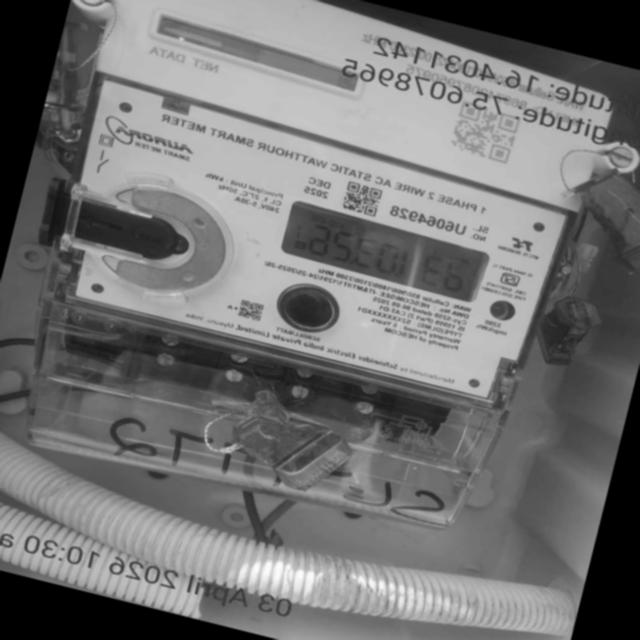meter: (55, 0, 620, 409)
